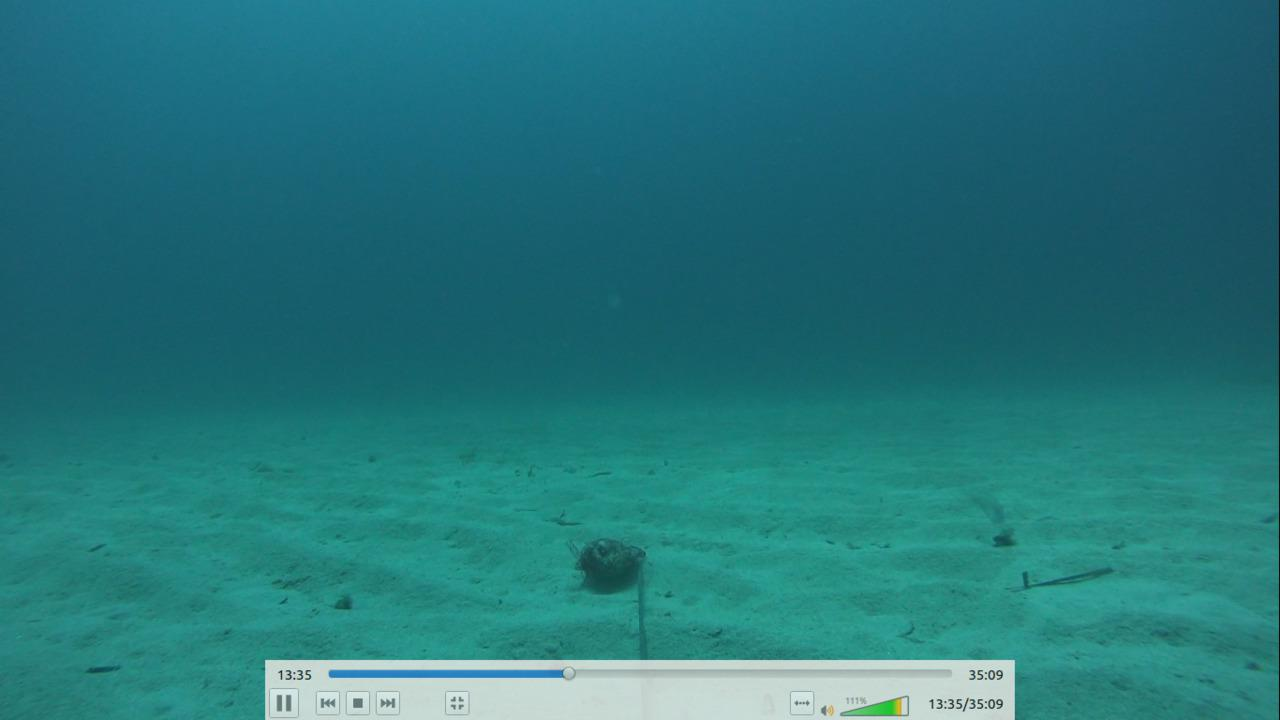raor: (959, 479, 1010, 525)
